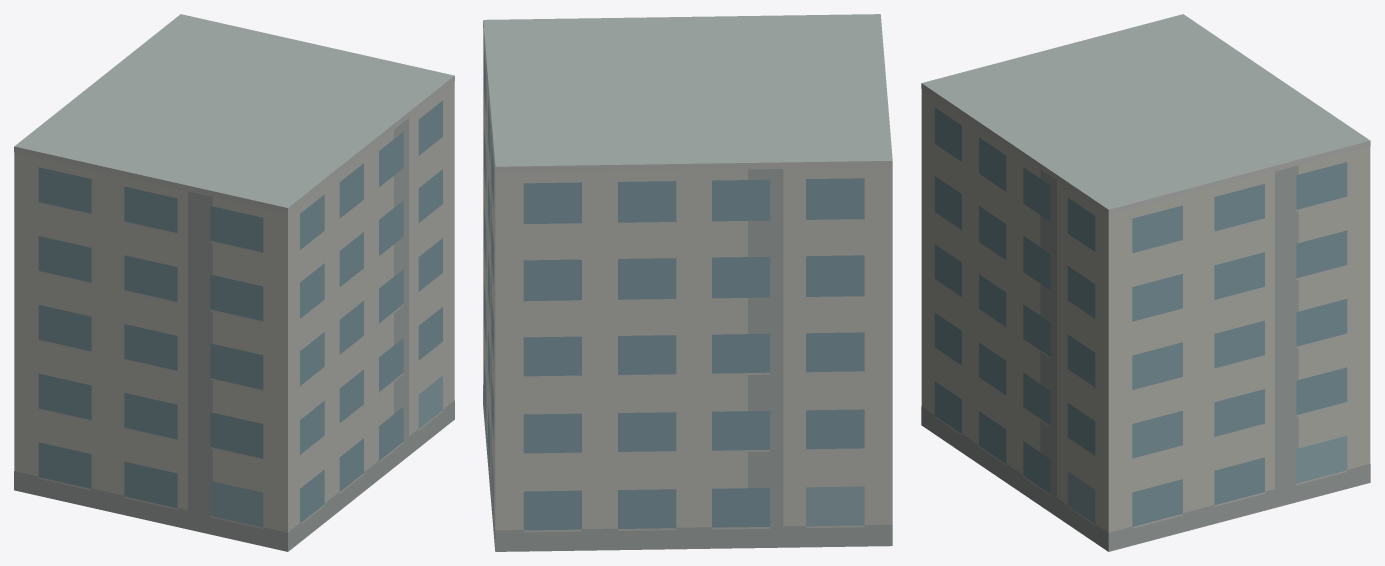
Rendered from residential-23e93a9f-3748-48c3-9000-a8b342bf3a93.glb.
The picture shows the model from 3 angles, left to right: view 1: azimuth 30°, elevation 25°; view 2: azimuth 150°, elevation 25°; view 3: azimuth 270°, elevation 25°; orthographic projection. The views are drawn at different scales.
Parts seen in each view (by area): view 1: residential-23e93a9f-3748-48c3-9000-a8b342bf3a93.tmp; view 2: residential-23e93a9f-3748-48c3-9000-a8b342bf3a93.tmp; view 3: residential-23e93a9f-3748-48c3-9000-a8b342bf3a93.tmp.
Part boxes in pixels (x1=…): residential-23e93a9f-3748-48c3-9000-a8b342bf3a93.tmp: x1=14, y1=14, x2=454, y2=551; residential-23e93a9f-3748-48c3-9000-a8b342bf3a93.tmp: x1=483, y1=14, x2=892, y2=551; residential-23e93a9f-3748-48c3-9000-a8b342bf3a93.tmp: x1=921, y1=14, x2=1370, y2=551.
Size of the model in its own units: 17.61 by 14.35 by 17.08.
